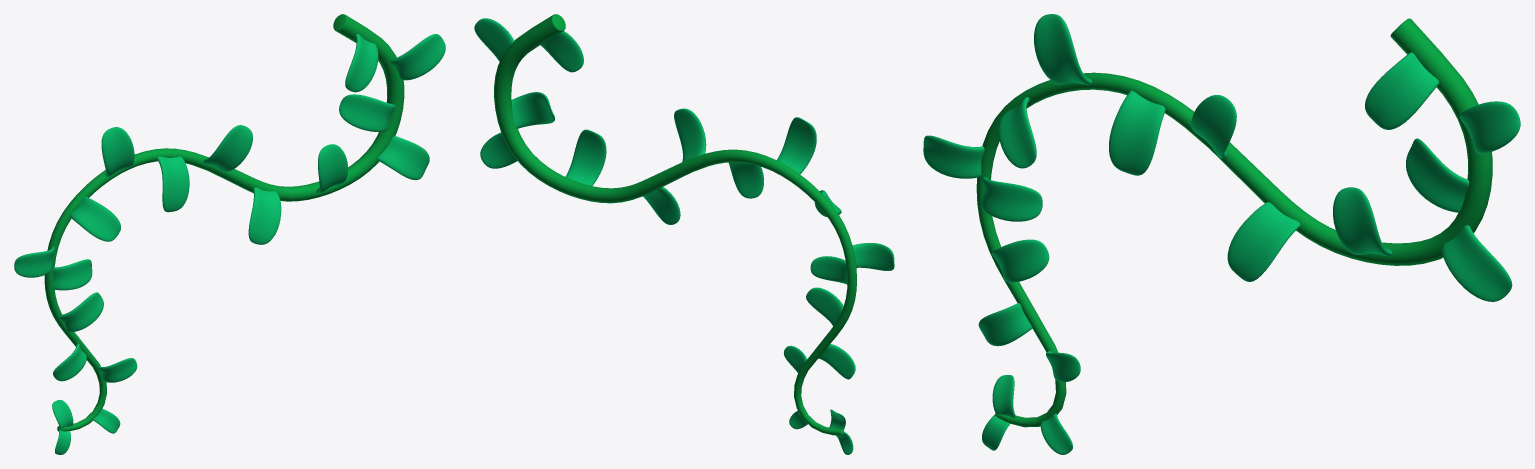
Rendered from City_20_Ivy_1.glb.
The picture shows the model from 3 angles, left to right: view 1: azimuth 30°, elevation 25°; view 2: azimuth 150°, elevation 25°; view 3: azimuth 330°, elevation 25°; orthographic projection. The views are drawn at different scales.
Parts seen in each view (by area): view 1: City_20_Ivy_1; view 2: City_20_Ivy_1; view 3: City_20_Ivy_1.
Boxes of the visible parts, box(x1,y1,x2,y2) form: City_20_Ivy_1: box(14, 14, 445, 454); City_20_Ivy_1: box(474, 14, 894, 454); City_20_Ivy_1: box(923, 14, 1520, 454).
Bounding box in the file's own units: 5.11 × 4.25 × 0.4963.
Materials: 1 (1 with a texture image).
